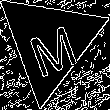M_N: (21, 11, 79, 75)
